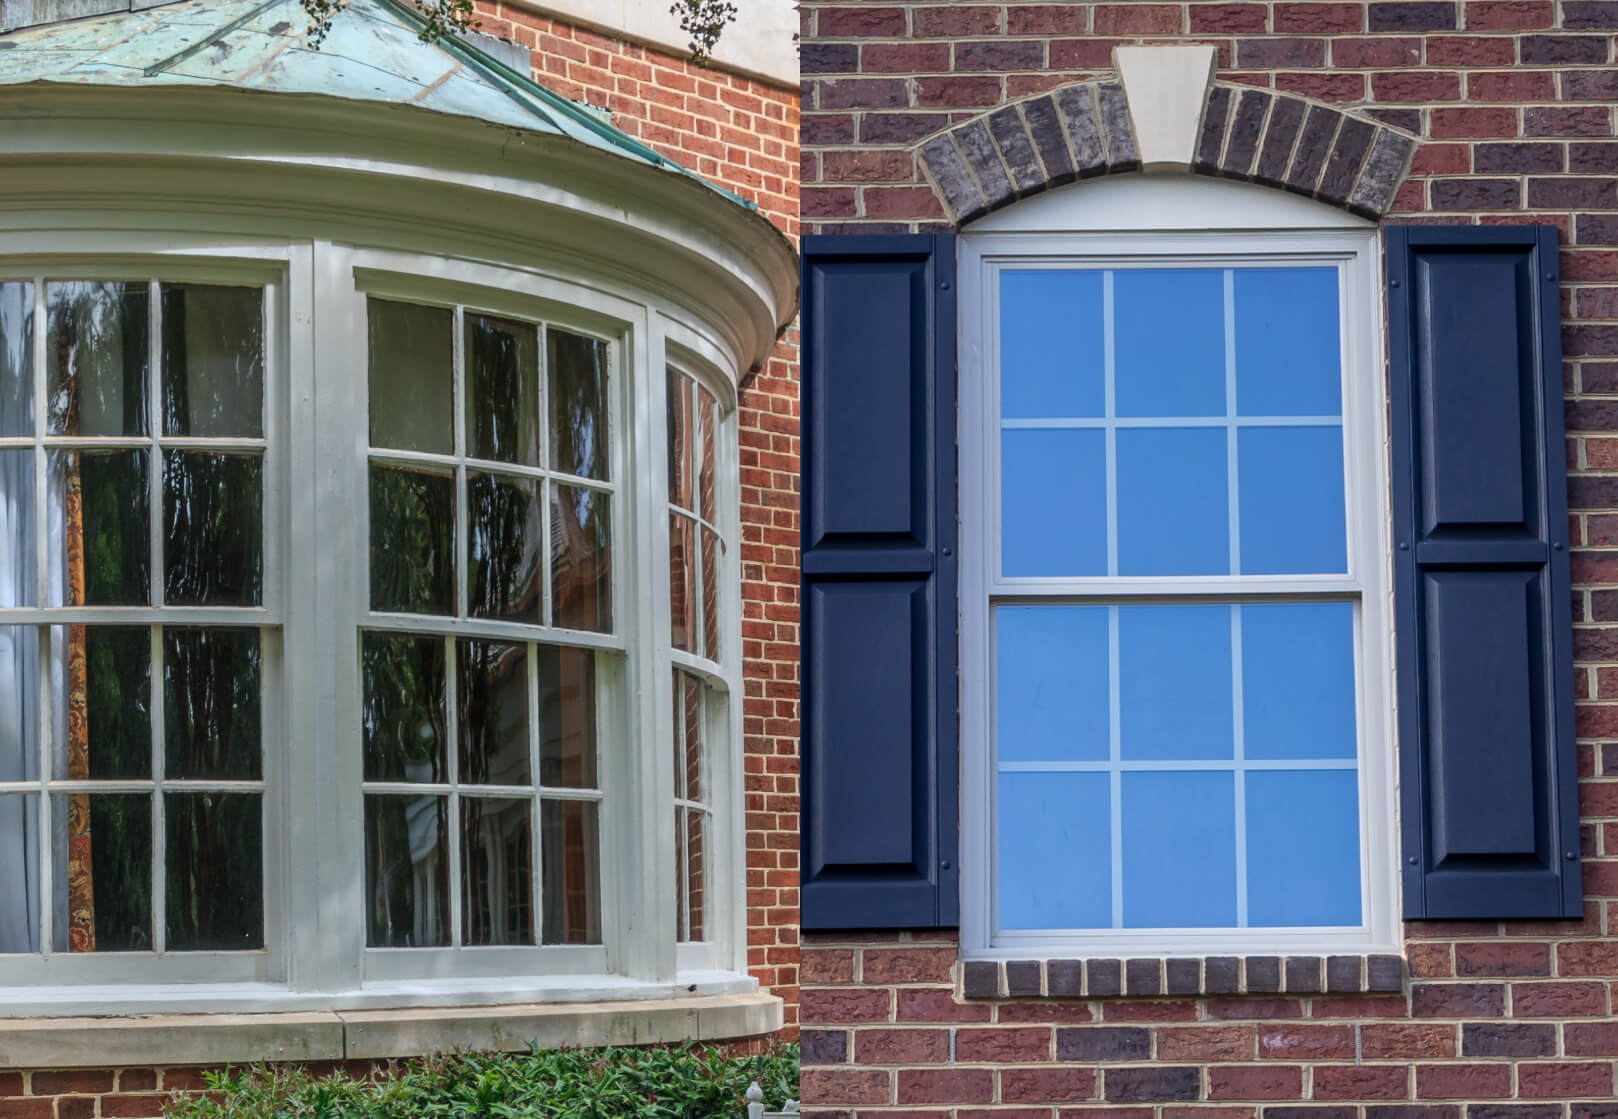Window: (960, 184, 1404, 971), (2, 251, 282, 998), (344, 258, 628, 979), (663, 330, 744, 979)
